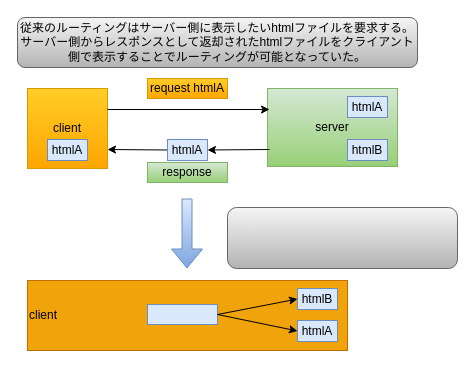
The diagram is 475 pixels wide and 368 high, and some of its shapes have lost their labels. Here are the shapes that lost their labels. From the top down, the centre of each, then its label:
At (342,237): "クライアントルーティングを使用することで、サーバー側に要求することなくクライアントでルーティングが可能となる。".
At (182,314): "react router".
